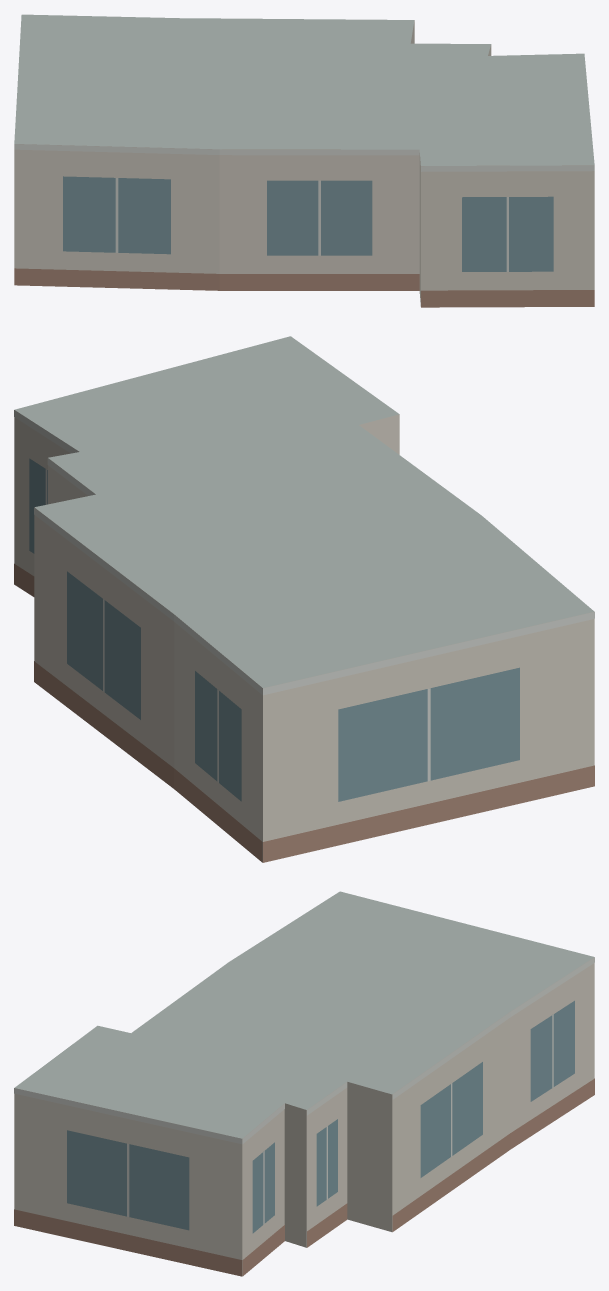
File: survey-upis-32724662.glb
3 views of the same model, one above another, from view 1: azimuth 30°, elevation 25°; view 2: azimuth 150°, elevation 25°; view 3: azimuth 270°, elevation 25° (orthographic). The views are drawn at different scales.
Visible parts, largest first — view 1: survey-upis-32724662.tmp; view 2: survey-upis-32724662.tmp; view 3: survey-upis-32724662.tmp.
Part boxes in pixels (left/top/right/bottom): survey-upis-32724662.tmp: left=14, top=14, right=594, bottom=307; survey-upis-32724662.tmp: left=14, top=336, right=594, bottom=862; survey-upis-32724662.tmp: left=14, top=891, right=594, bottom=1276.
Bounding box in the file's own units: 11.75 × 3.05 × 11.65.
